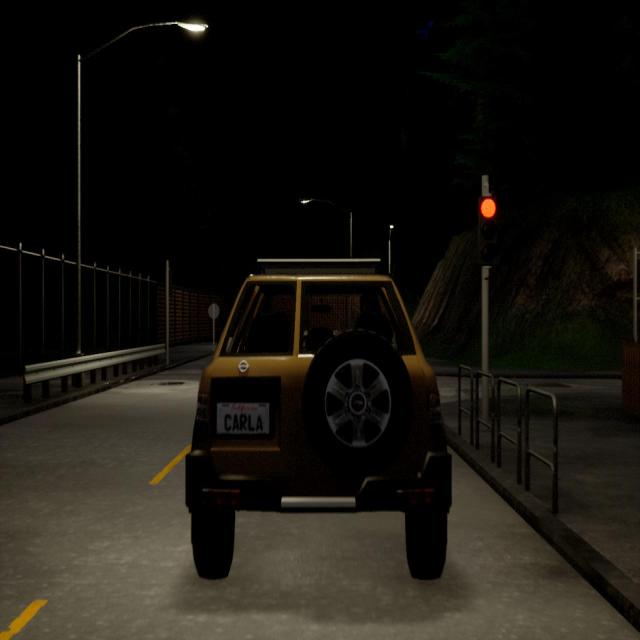Traffic_Signs: (208, 303, 220, 319)
Vehicle: (185, 259, 451, 579)
traffic_light: (476, 195, 498, 266)
